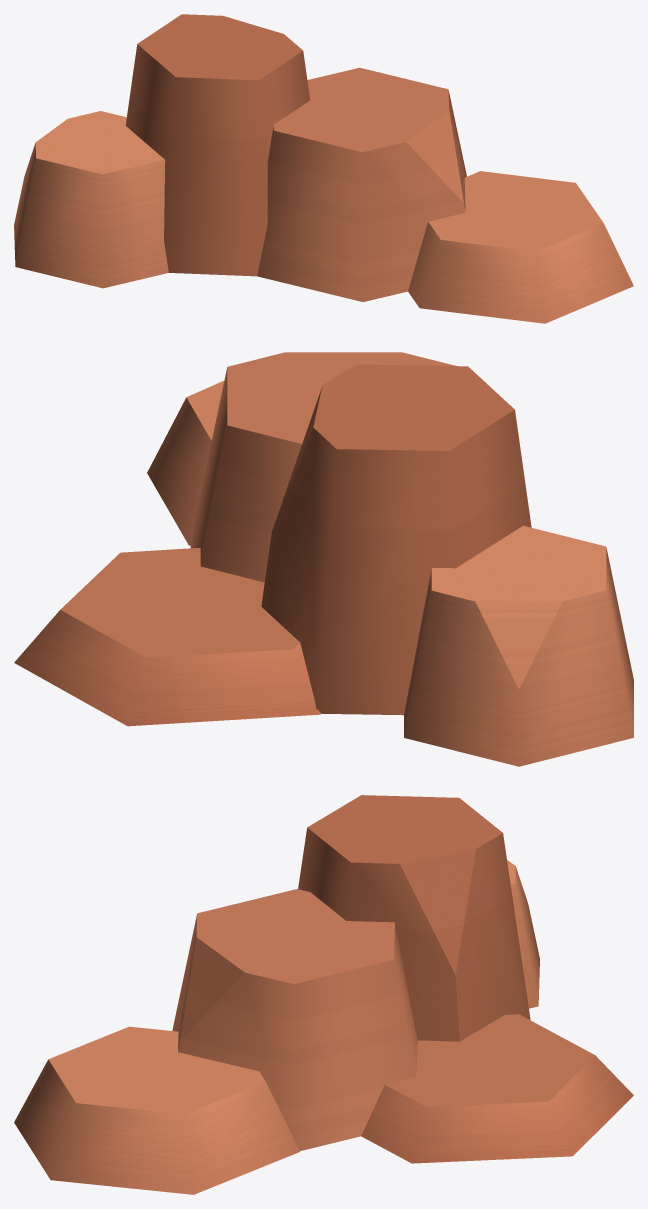
Rendered from mound-a.glb.
3 views of the same model, one above another, from view 1: azimuth 30°, elevation 25°; view 2: azimuth 150°, elevation 25°; view 3: azimuth 270°, elevation 25° (orthographic). The views are drawn at different scales.
Parts seen in each view (by area): view 1: detail-dirt; view 2: detail-dirt; view 3: detail-dirt.
Part boxes in pixels (x1,y1,x2,y2): detail-dirt: (14, 14, 633, 323); detail-dirt: (14, 352, 633, 766); detail-dirt: (14, 795, 633, 1194).
Bounding box in the file's own units: 0.7028 × 0.2653 × 0.712.
Materials: 1 (1 with a texture image).
